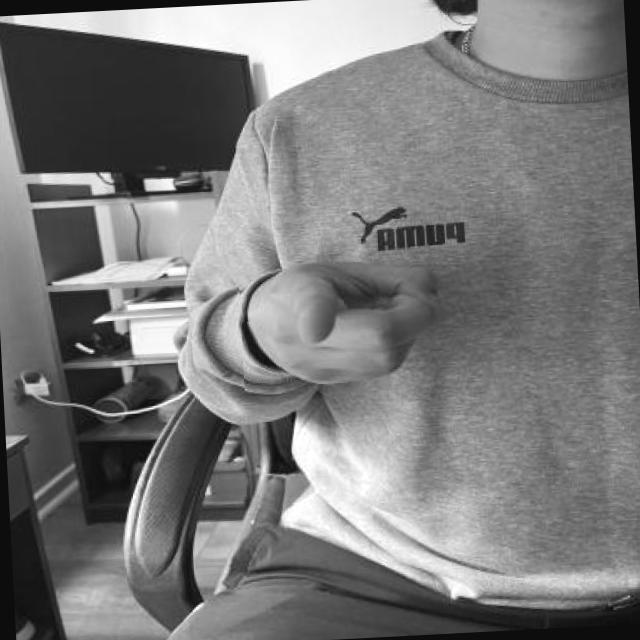X: (238, 240, 452, 397)
